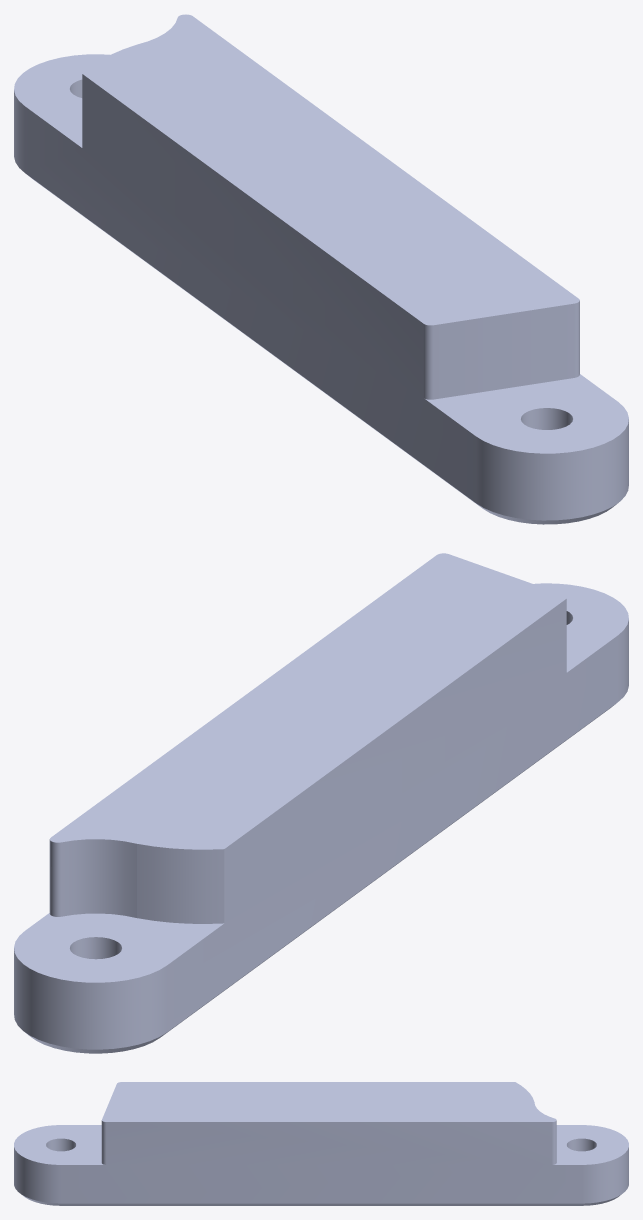
The picture shows the model from 3 angles, top to bottom: view 1: azimuth 30°, elevation 25°; view 2: azimuth 150°, elevation 25°; view 3: azimuth 270°, elevation 25°; orthographic projection. The views are drawn at different scales.
Visible parts, largest first — view 1: node0; view 2: node0; view 3: node0.
Boxes of the visible parts, x1=… form: node0: x1=14, y1=14, x2=628, y2=524; node0: x1=14, y1=553, x2=628, y2=1053; node0: x1=14, y1=1082, x2=628, y2=1205.
Bounding box in the file's own units: 0.01 × 0.01 × 0.065.
